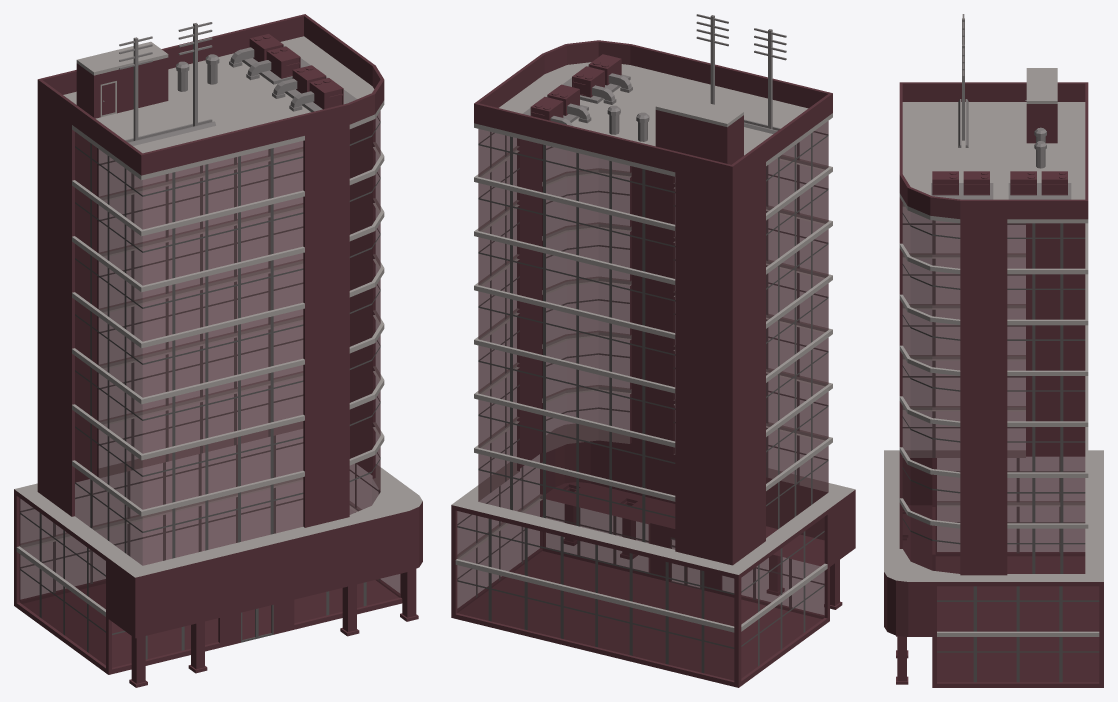
Rendered from building-office-rounded.fbx.
3 views of the same model, side by side, from view 1: azimuth 30°, elevation 25°; view 2: azimuth 150°, elevation 25°; view 3: azimuth 270°, elevation 25° (orthographic). The views are drawn at different scales.
Visible parts, largest first — view 1: building-office-rounded; view 2: building-office-rounded; view 3: building-office-rounded.
Part boxes in pixels (box(x1,y1,x2,y2)): building-office-rounded: box(14, 14, 422, 687); building-office-rounded: box(451, 14, 855, 687); building-office-rounded: box(884, 14, 1103, 687).
Size of the model in its own units: 20 by 39.4 by 14.1.
